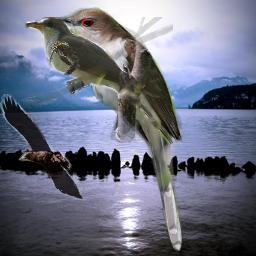Crow: (0, 94, 84, 201)
Cuckoo: (51, 7, 184, 253), (25, 17, 173, 144)
